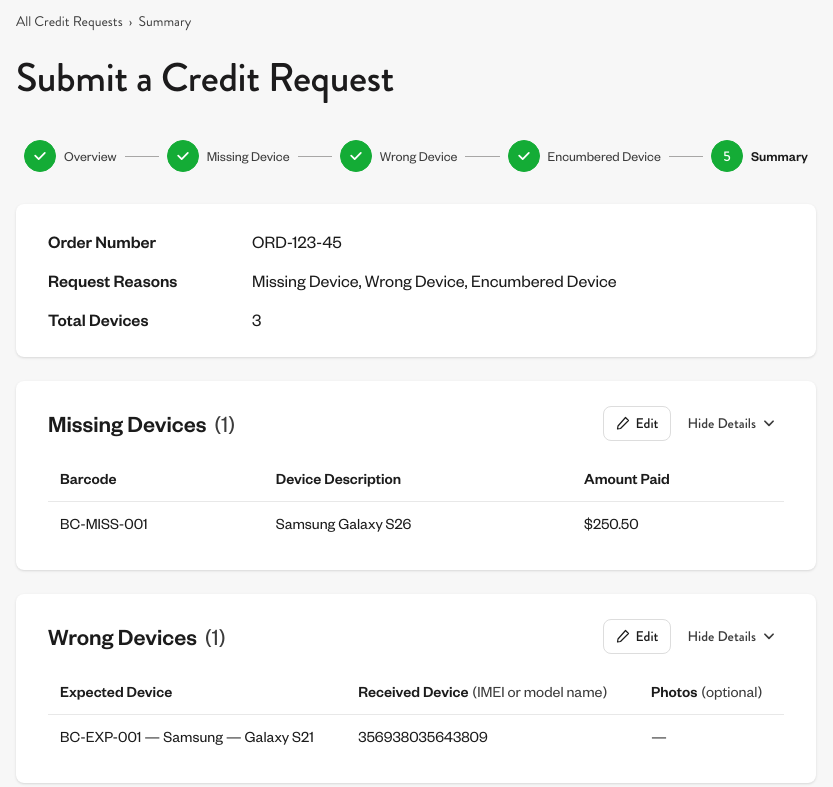
Test: SummaryStep › Show/Hide Details toggle collapses the section table
Check: the element "Missing Devices" is shown, box [16,381,816,570]
Check: the table that starts with "Barcode" is shown, box [48,457,784,546]
Click the button "Hide Details" in the row of "Missing Devices" at (732, 423), box [679,406,784,440]
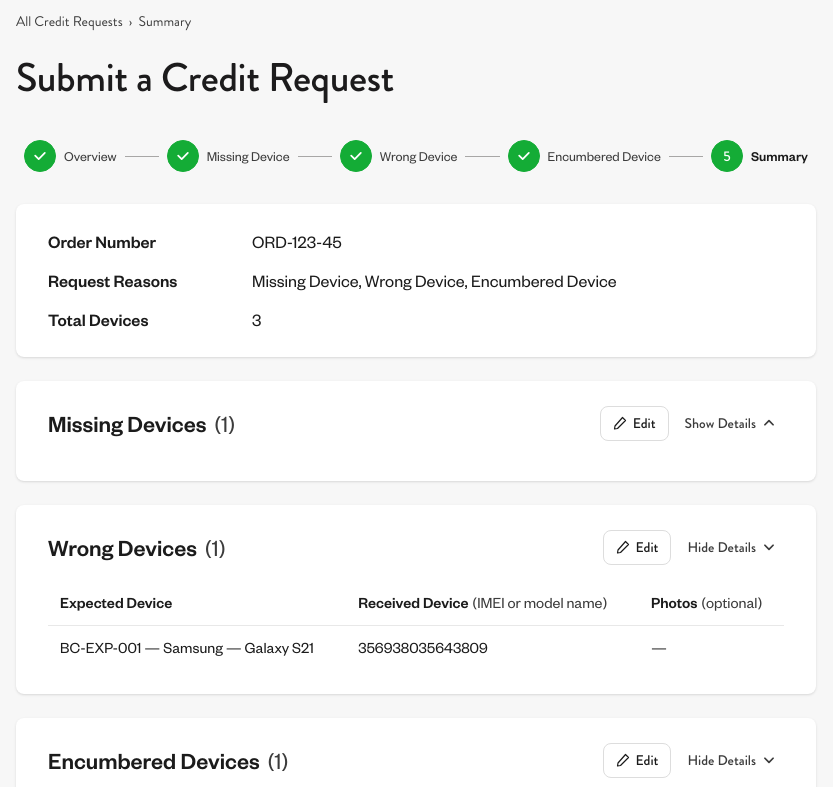
Check: the button named "hide details" is collapsed, box [677,406,784,440]
Check: the table "BC-MISS-001 Samsung Galaxy S26 $250.50" is gone
